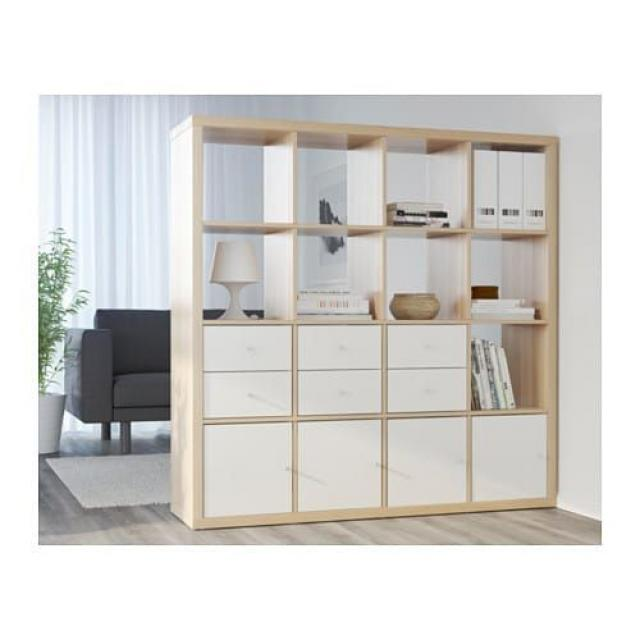Shelf: (163, 112, 567, 531)
